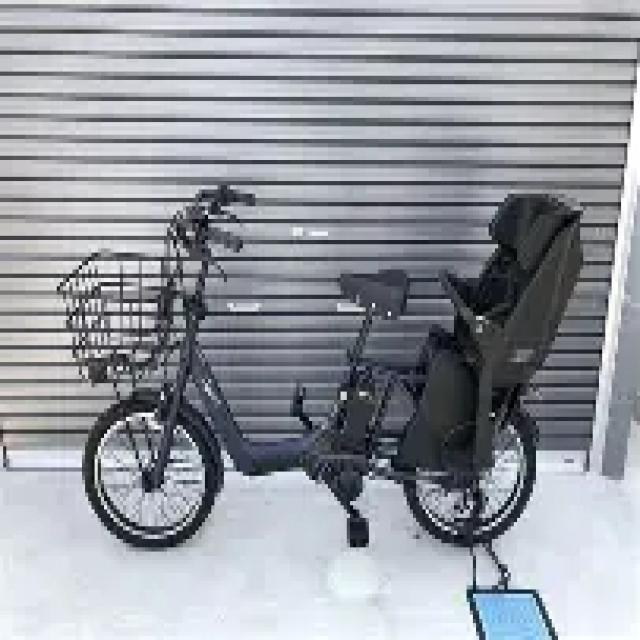basket: (56, 248, 175, 386)
battery: (336, 375, 377, 443)
childseat: (400, 195, 590, 474)
